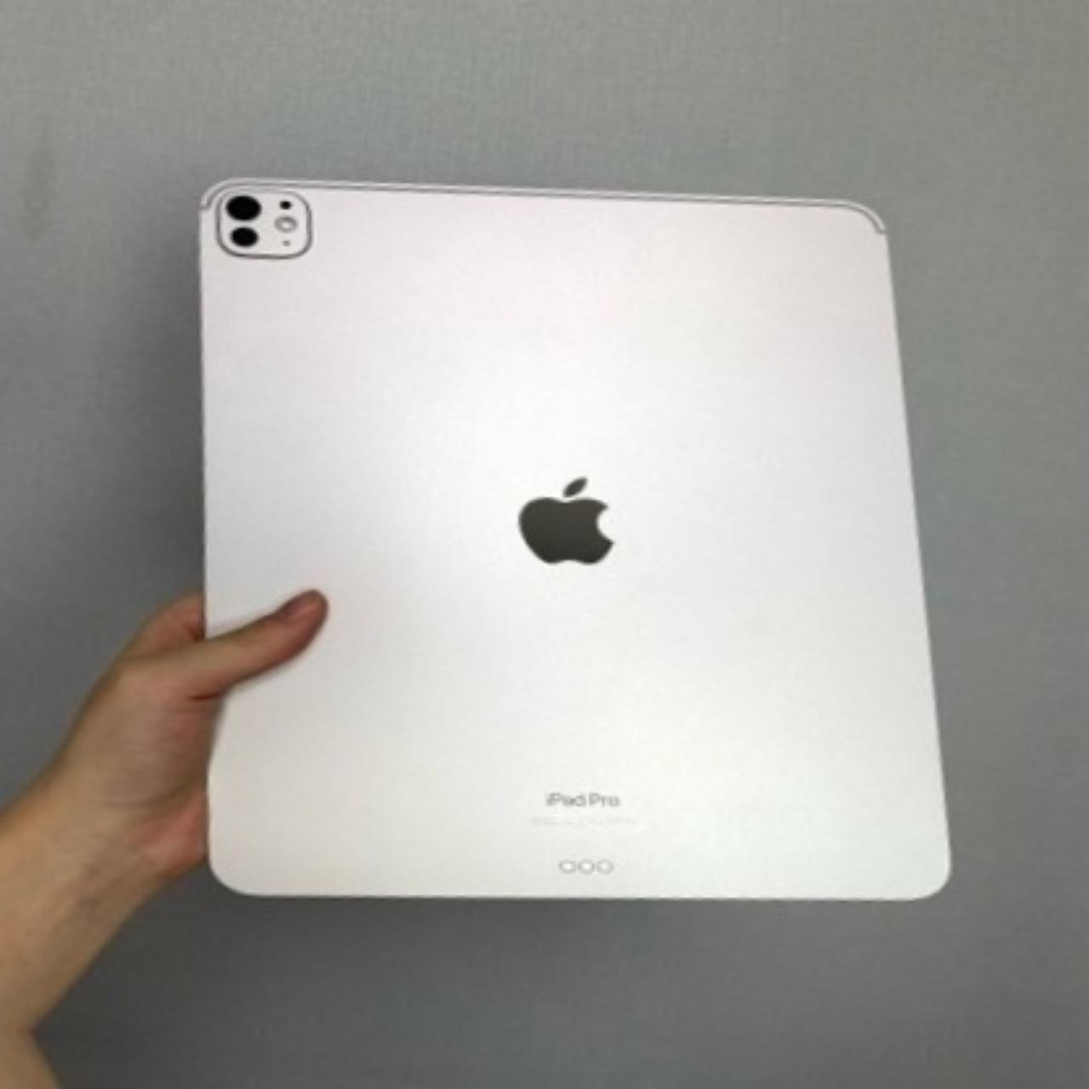Tablet_PC: (108, 112, 1045, 997)
